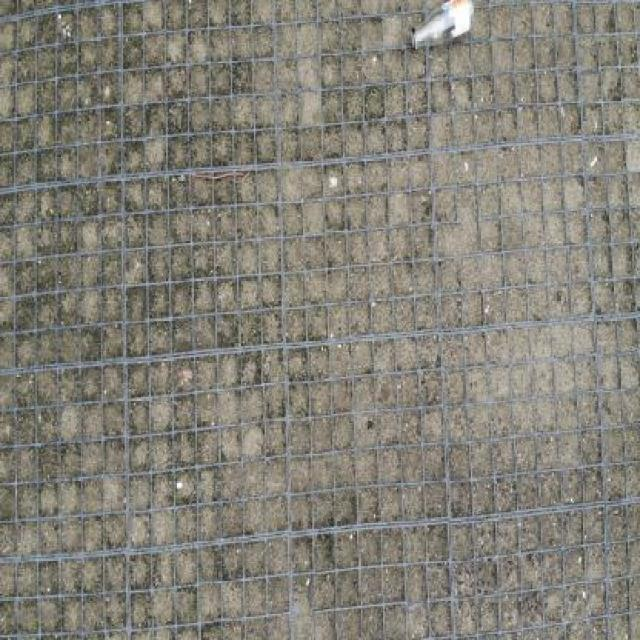Garbage: (411, 0, 474, 49)
